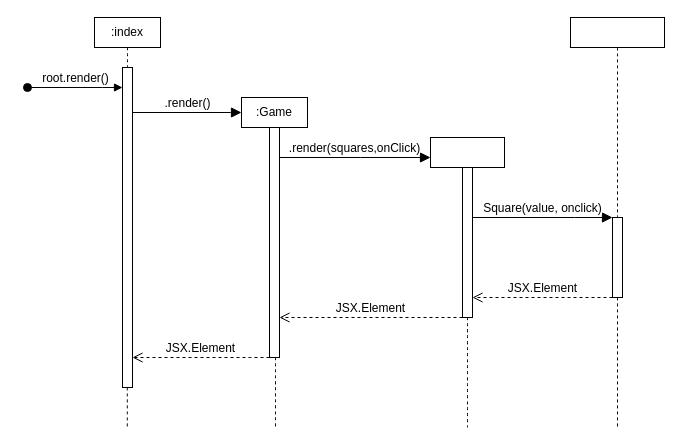
Image size: 682x446. Some labels were removed from this diagram. The box of each missing label's shape, as (x1, y1, x2, y2) in pixels:
:Board: (430, 136, 504, 168)
:Square: (570, 16, 664, 48)
